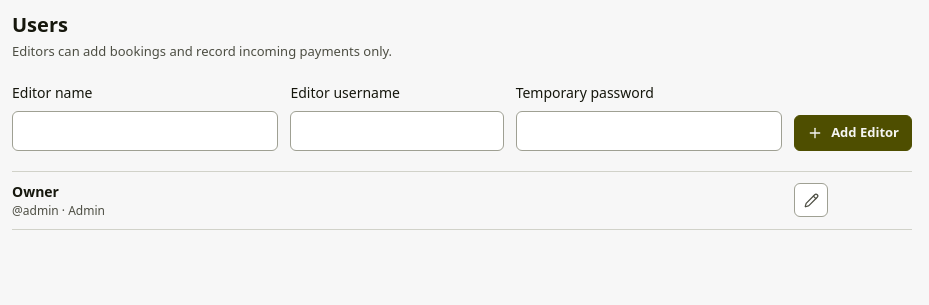
Test: UserManager › lists profiles and creates an Editor
The width and height of the screenshot is (929, 305).
Check: the text "Owner" is shown, box [12, 182, 59, 200]
Step 1. Type "Front Desk" into the field labelled "Editor name" → [145, 130], box [12, 110, 278, 150]
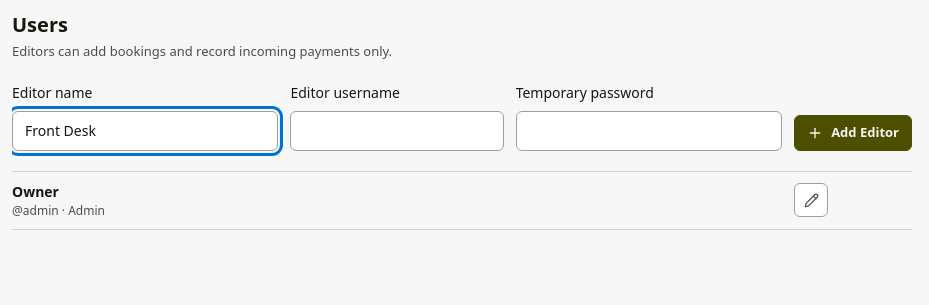
Step 2. Type "desk" into the field labelled "Editor username" → [397, 130], box [290, 110, 504, 150]
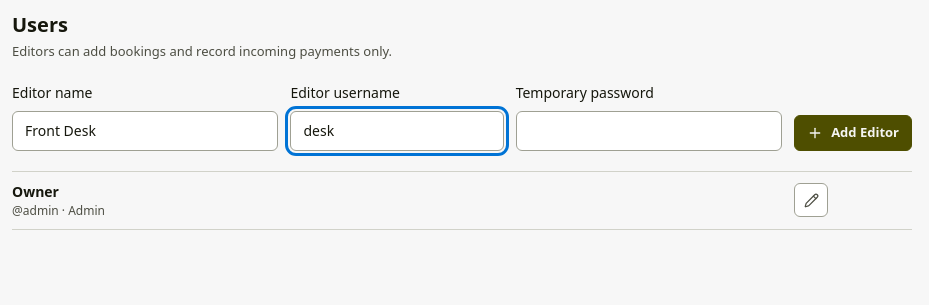
Step 3. Type "editor password" into the password field labelled "Temporary password" → [649, 130], box [516, 110, 782, 150]
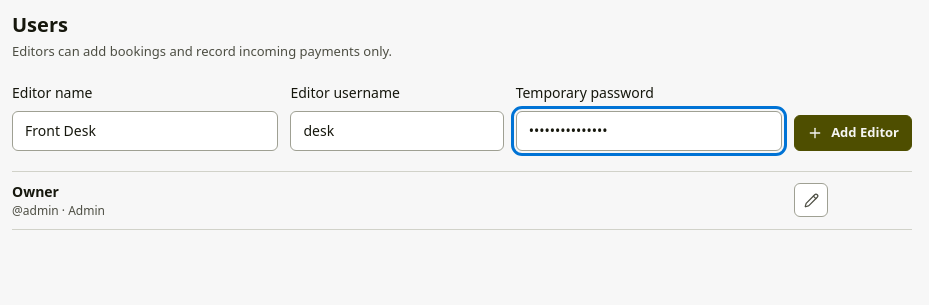
Step 4. Click the button "Add Editor" → [853, 132], box [794, 114, 912, 150]
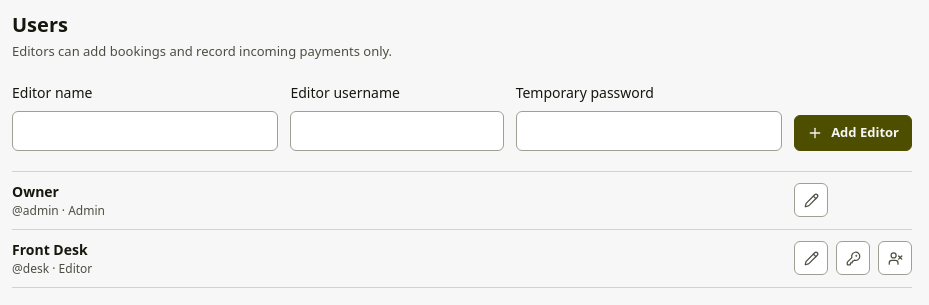
Check: the text "Front Desk" is shown, box [12, 240, 88, 258]
